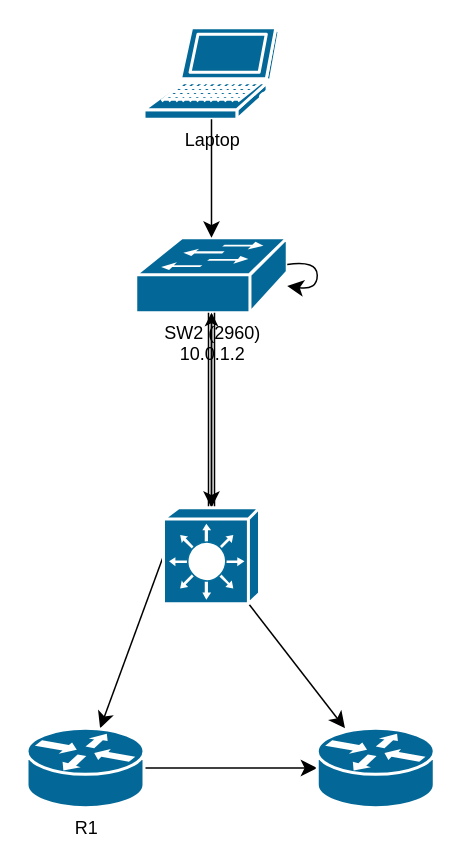
This 462x864 diagram has some shape labels left out. The box of each missing label's shape, as (x1, y1, x2, y2) in pixels:
R2: (315, 726, 435, 808)
Sw1 (3750) 10.0.1.1: (161, 506, 260, 604)
